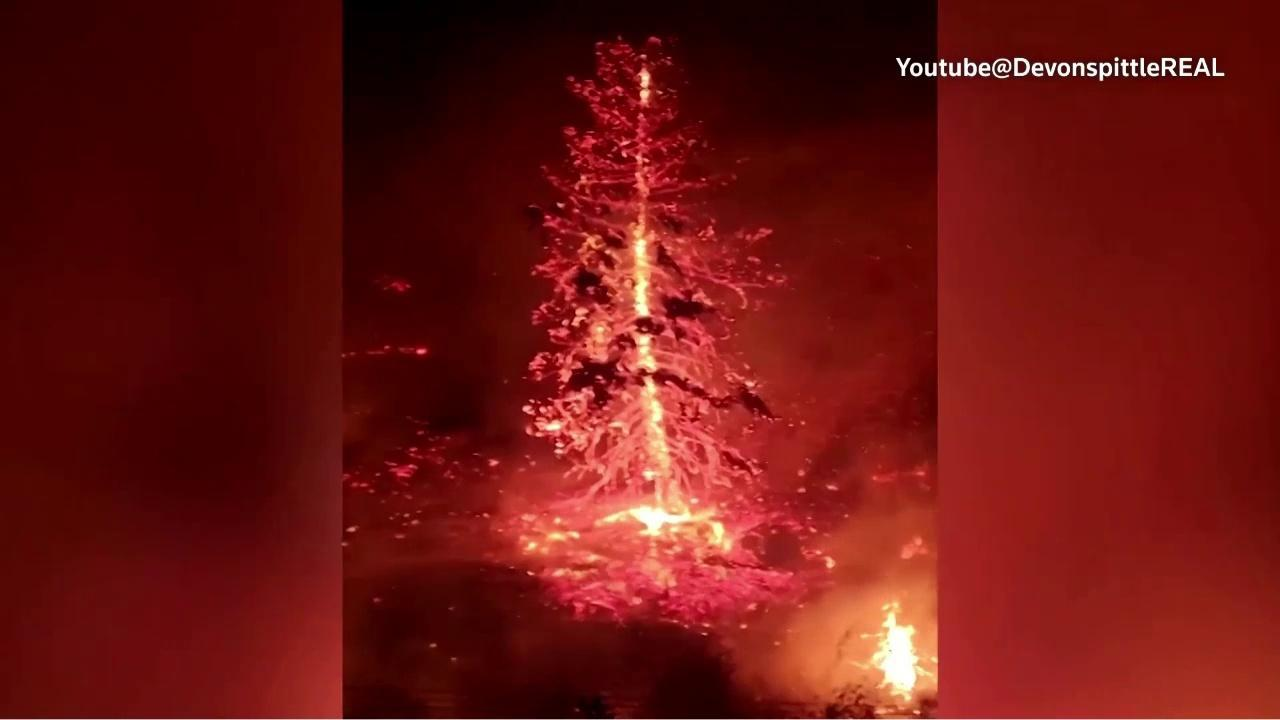fire: (483, 33, 838, 627), (848, 601, 938, 705), (380, 455, 420, 484), (378, 278, 412, 294), (398, 343, 430, 357), (365, 344, 391, 354), (350, 350, 357, 356)
smoke: (344, 21, 937, 720)
